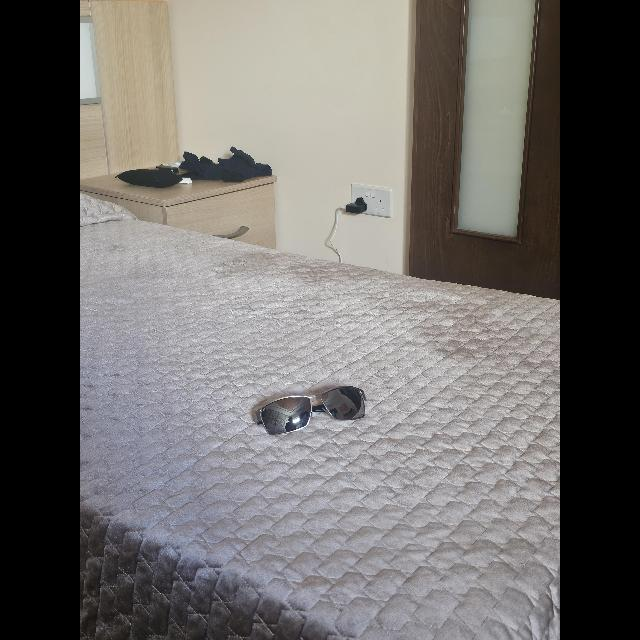Sunglasses: (254, 386, 366, 434)
